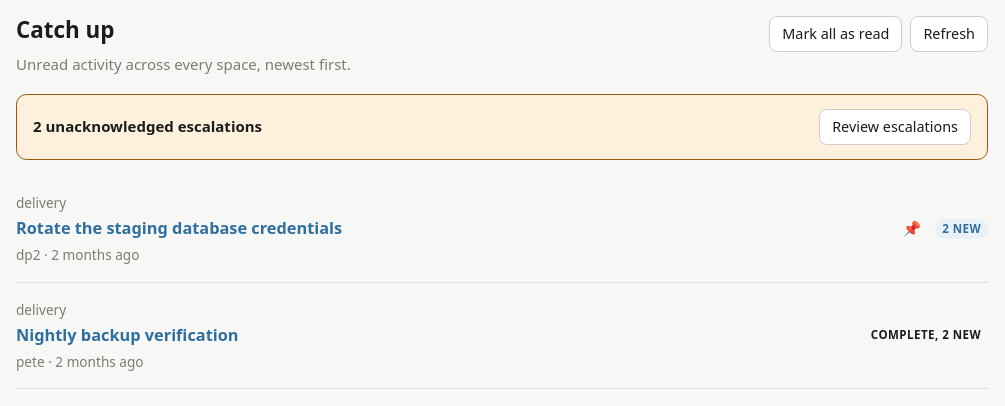
Test: marks all rendered conversations read through the newest row
Expected: the link "Nightly backup verification" is shown, 16,323 -> 238,348
Click the button "Mark all as read".
click(836, 34)  # box 769,16 -> 902,52
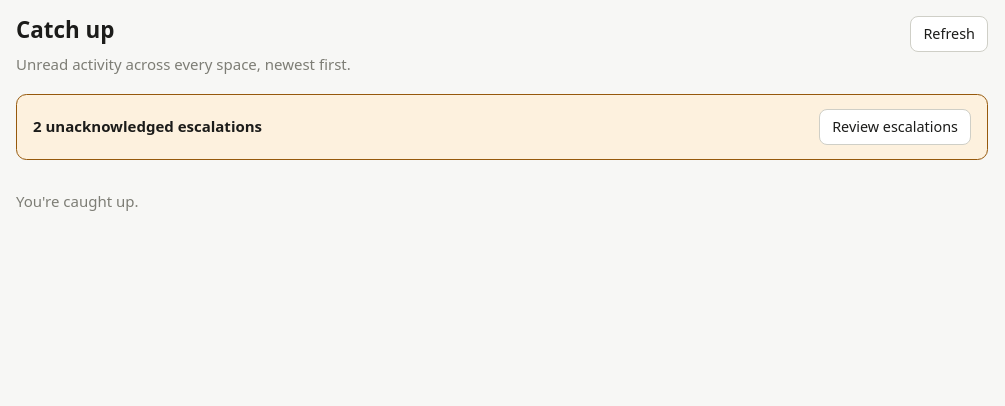
Expected: the text "You're caught up." is shown, 16,191 -> 138,211
Expected: the button "Mark all as read" is gone
